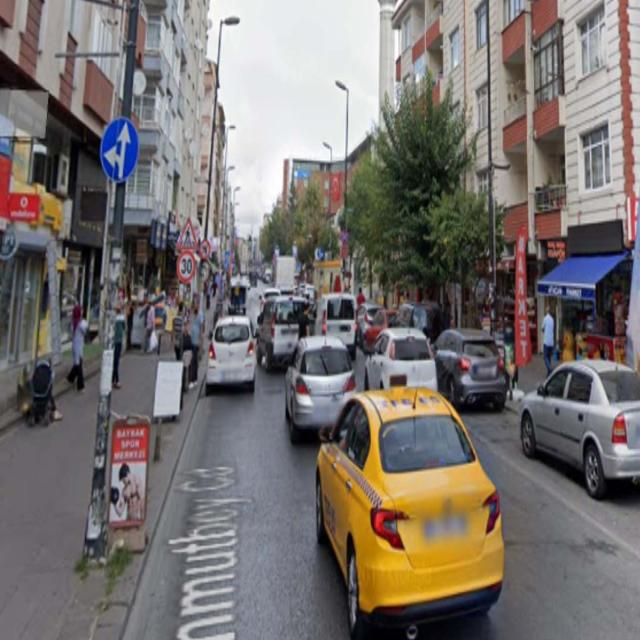30: (178, 252, 194, 281)
ilerisol: (98, 121, 139, 178)
